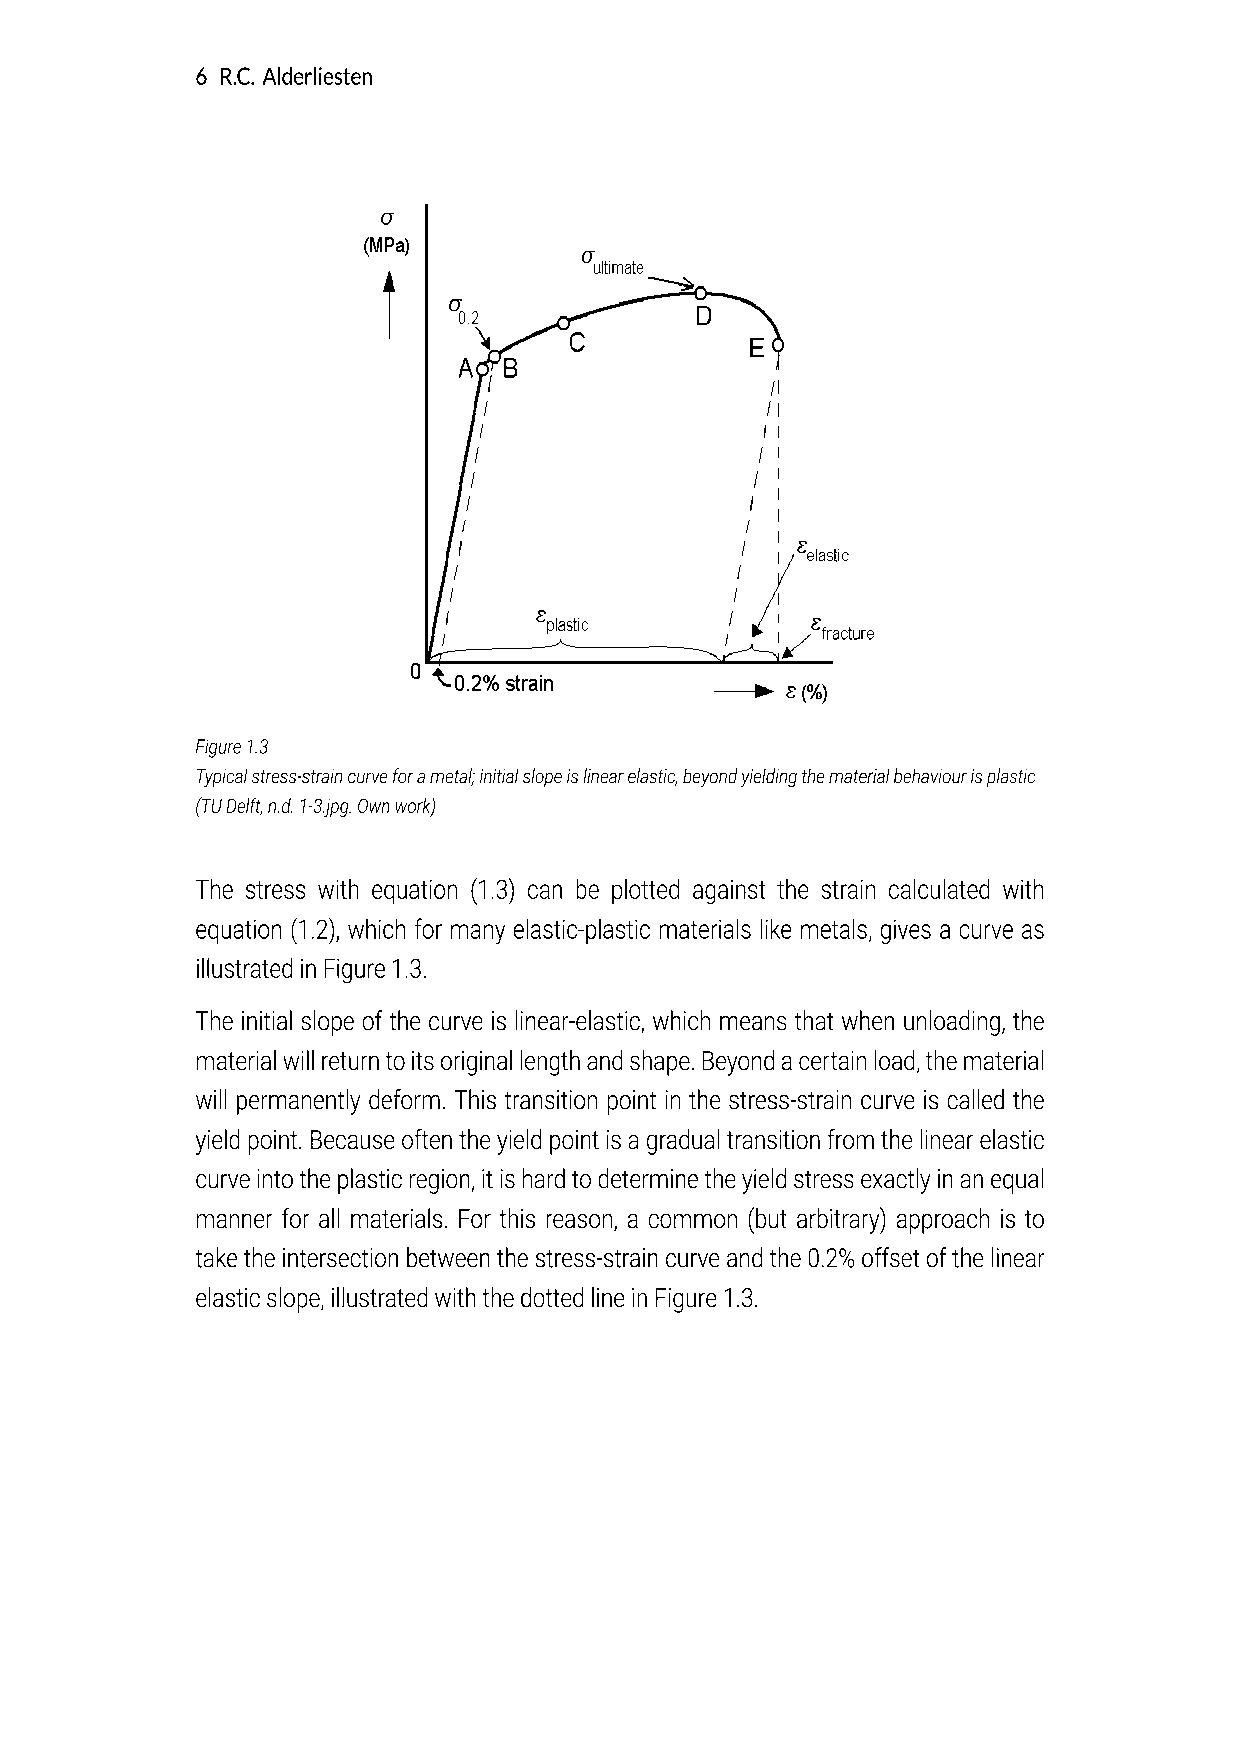content: (188, 195, 1051, 1318)
content_chapter: (216, 62, 374, 90)
content_pagenumber: (188, 60, 212, 91)
